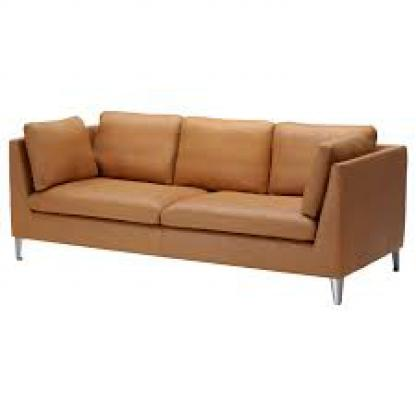sofa: (13, 109, 409, 309)
